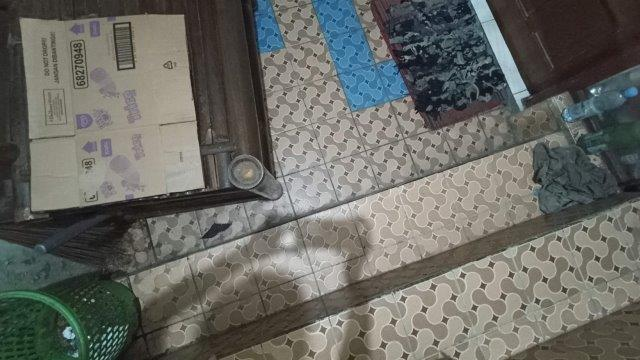kardus: (20, 16, 204, 210)
